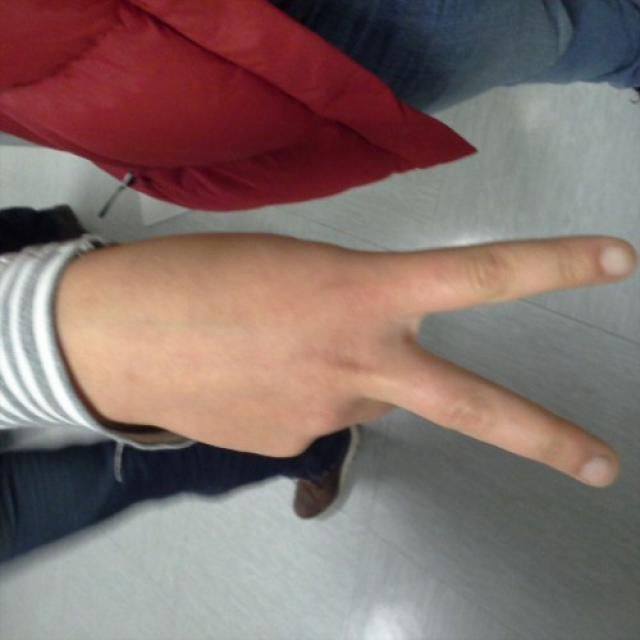scissors: (178, 232, 637, 495)
